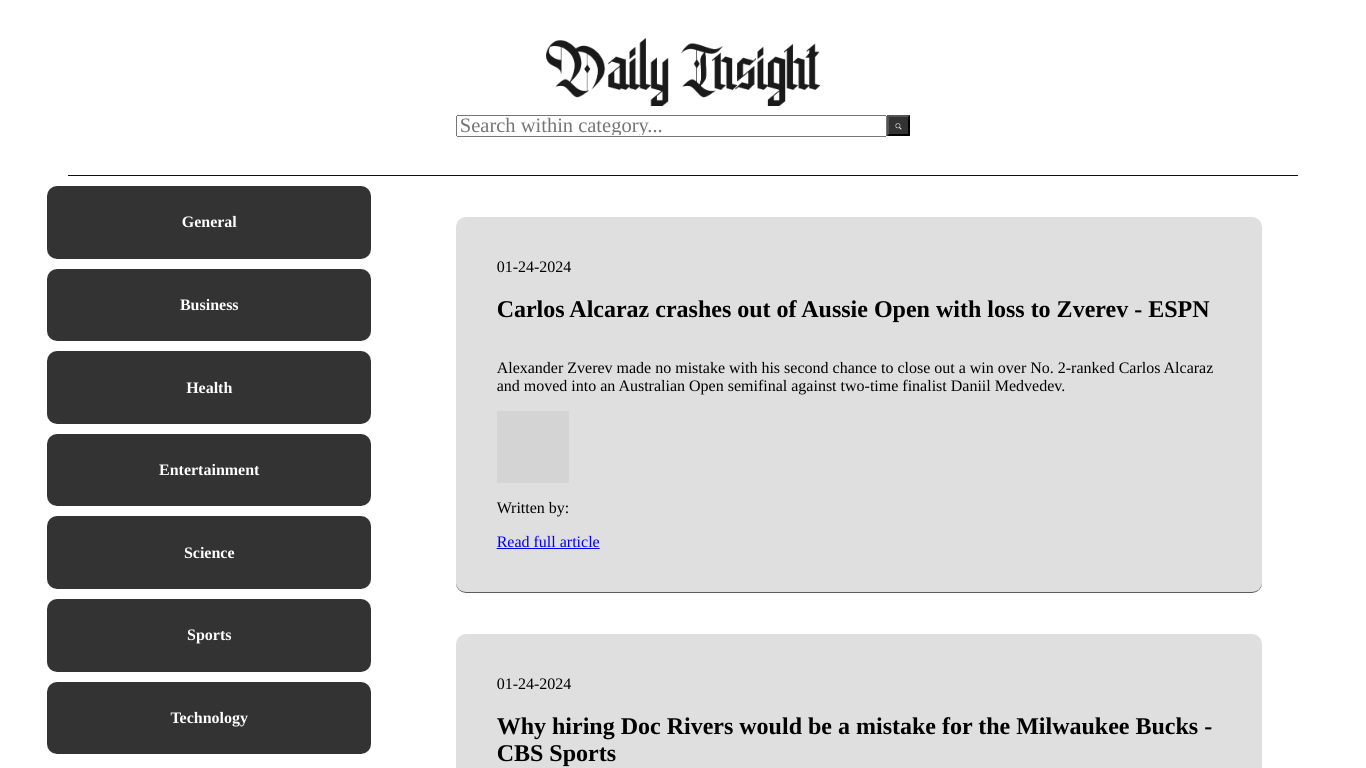
Display homepage › should be able to show an error message letting user know to fill out search input if search field is empty preventing user from searching until they fill out t
Click the button with test id "search-button": coordinates (899, 126) [887,115,910,136]
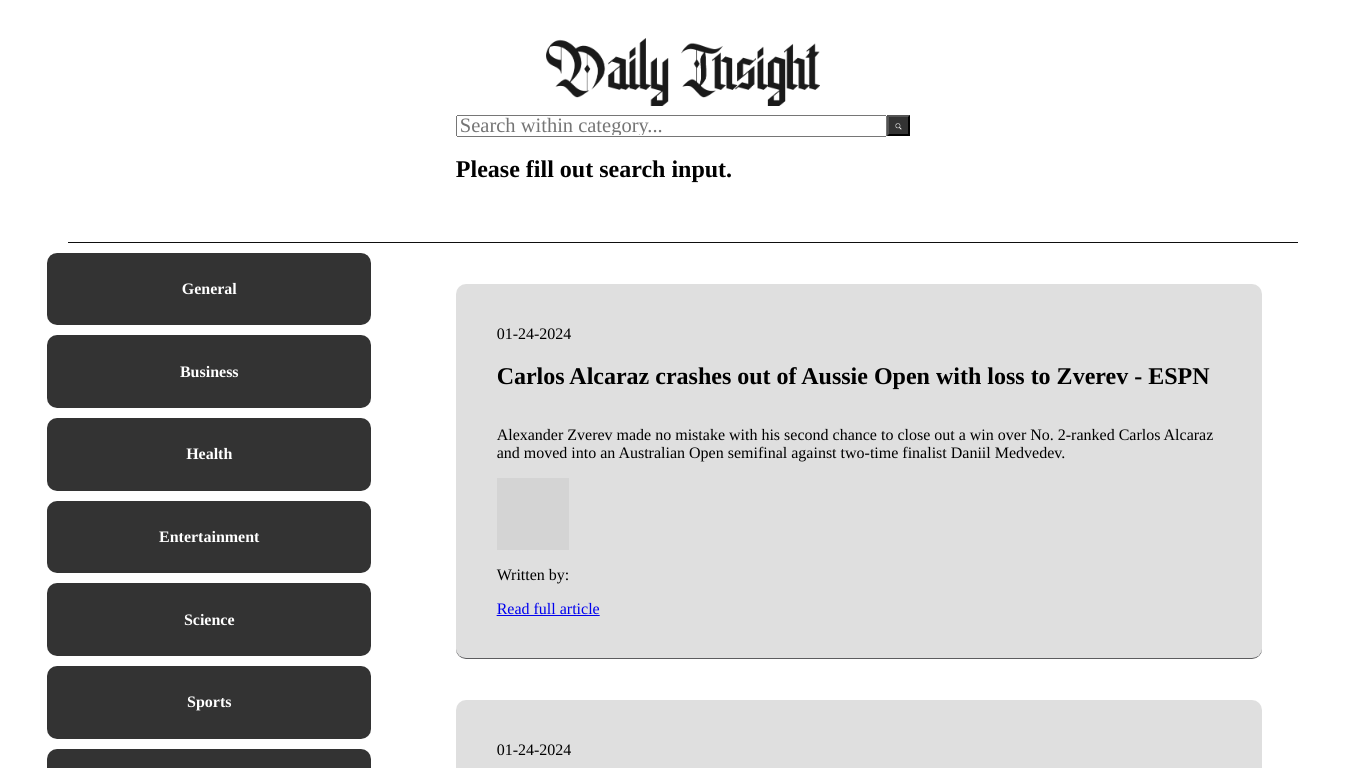
Now the heading "Please fill out search input." is shown, box [456,156,732,182]
